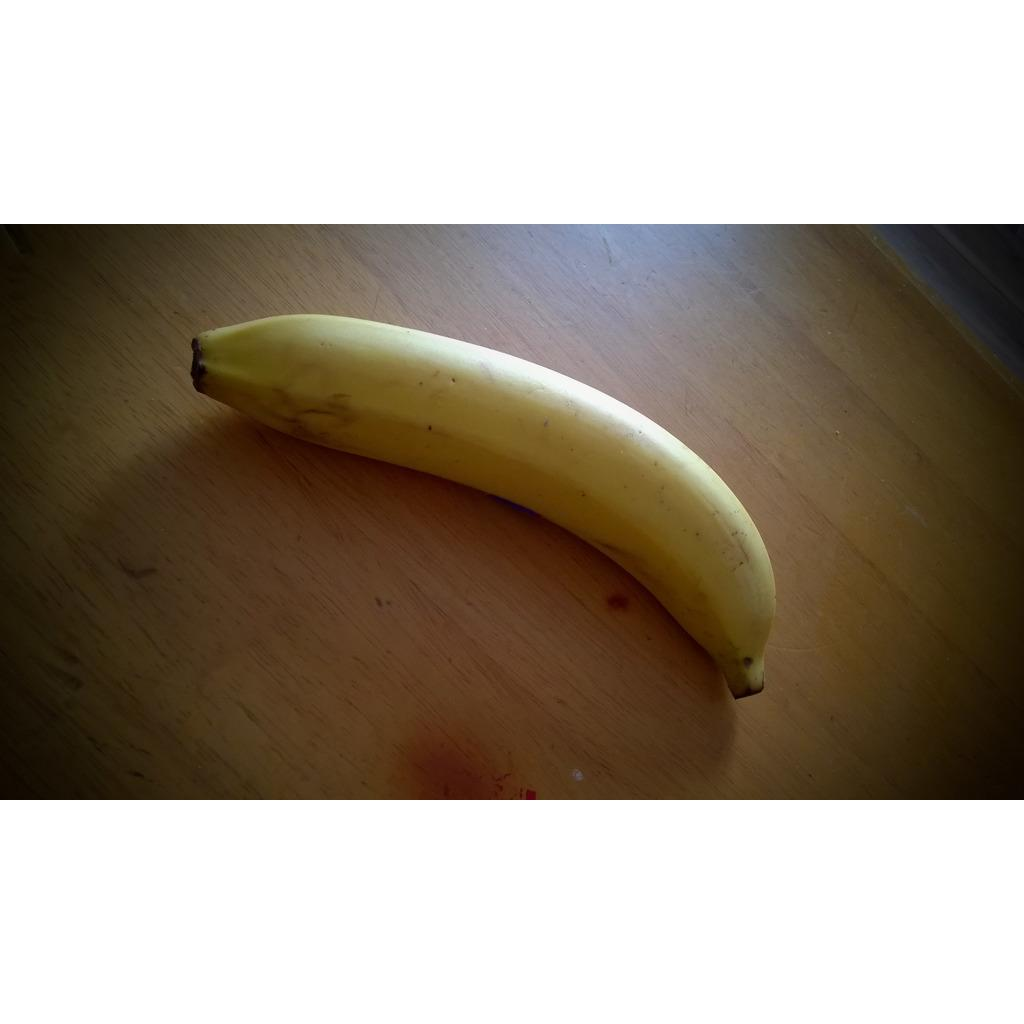banana: (189, 314, 780, 701)
